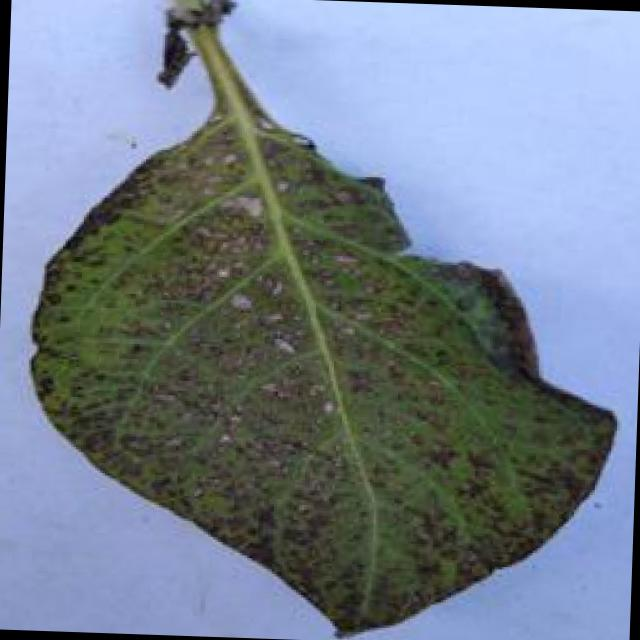Potato_Early_Blight: (20, 91, 616, 640)
